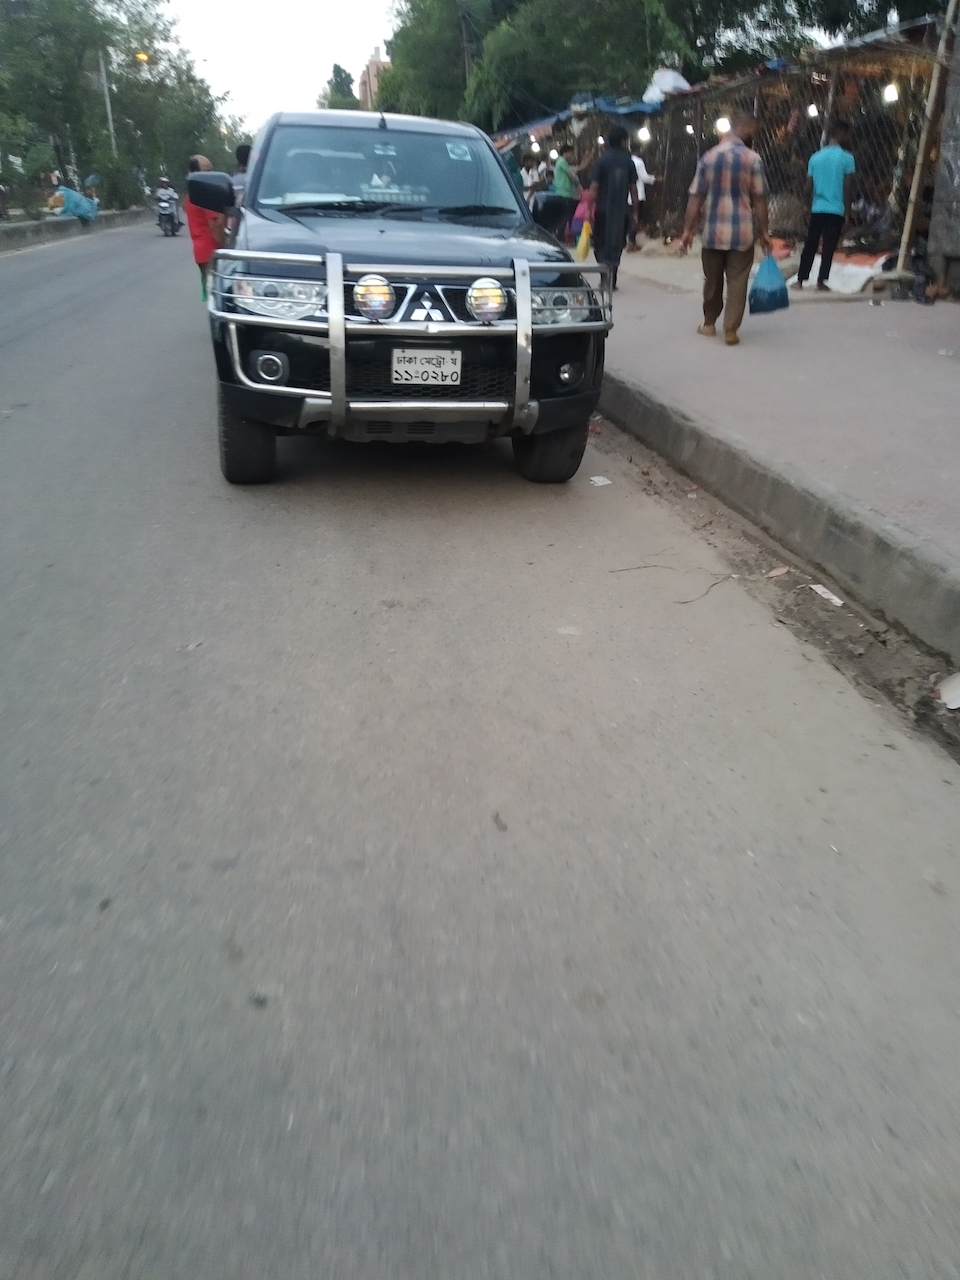registration_plate: (391, 347, 462, 385)
